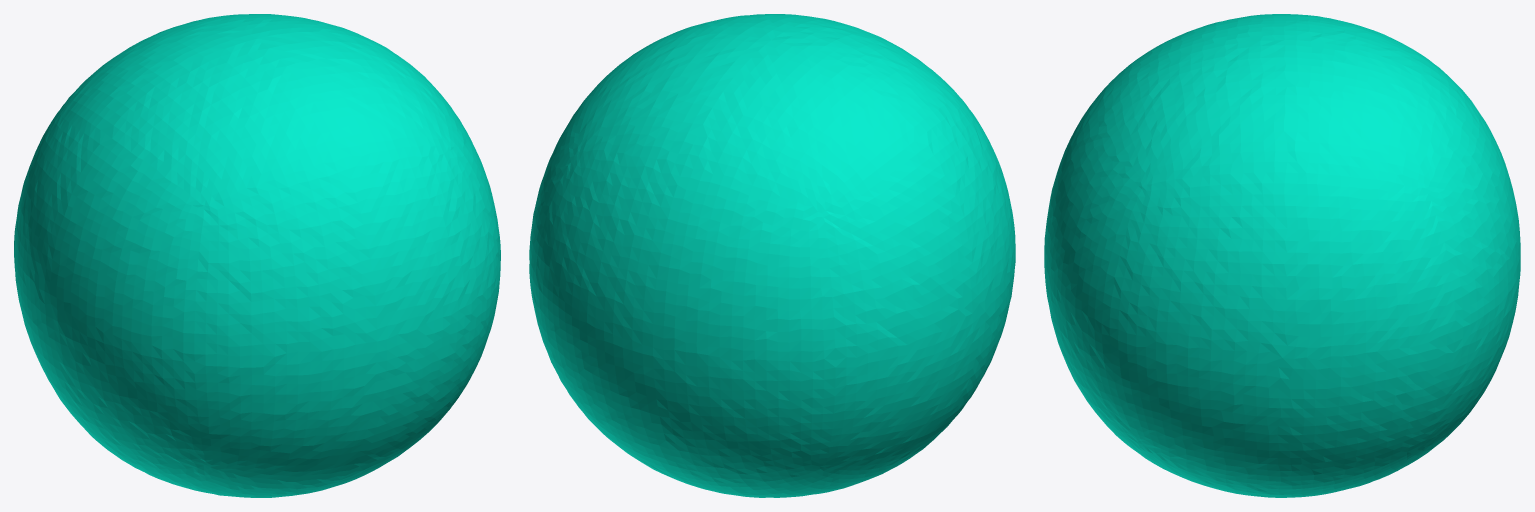
File: Sea40.fbx
The picture shows the model from 3 angles, left to right: view 1: azimuth 30°, elevation 25°; view 2: azimuth 150°, elevation 25°; view 3: azimuth 270°, elevation 25°; orthographic projection.
Parts seen in each view (by area): view 1: pCube1; view 2: pCube1; view 3: pCube1.
Boxes of the visible parts, <box> form: pCube1: <box>14,14,500,497</box>; pCube1: <box>529,14,1015,497</box>; pCube1: <box>1044,14,1520,497</box>.
Bounding box in the file's own units: 40.27 × 40.26 × 40.25.
